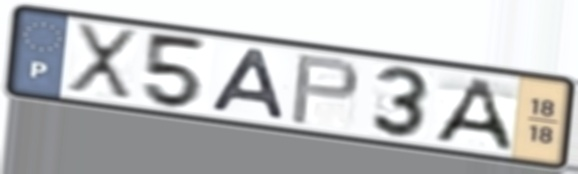3: (371, 63, 431, 141)
5: (137, 29, 218, 113)
A: (428, 74, 516, 154), (206, 45, 291, 123)
P: (286, 52, 363, 128)
X: (63, 19, 141, 105)
